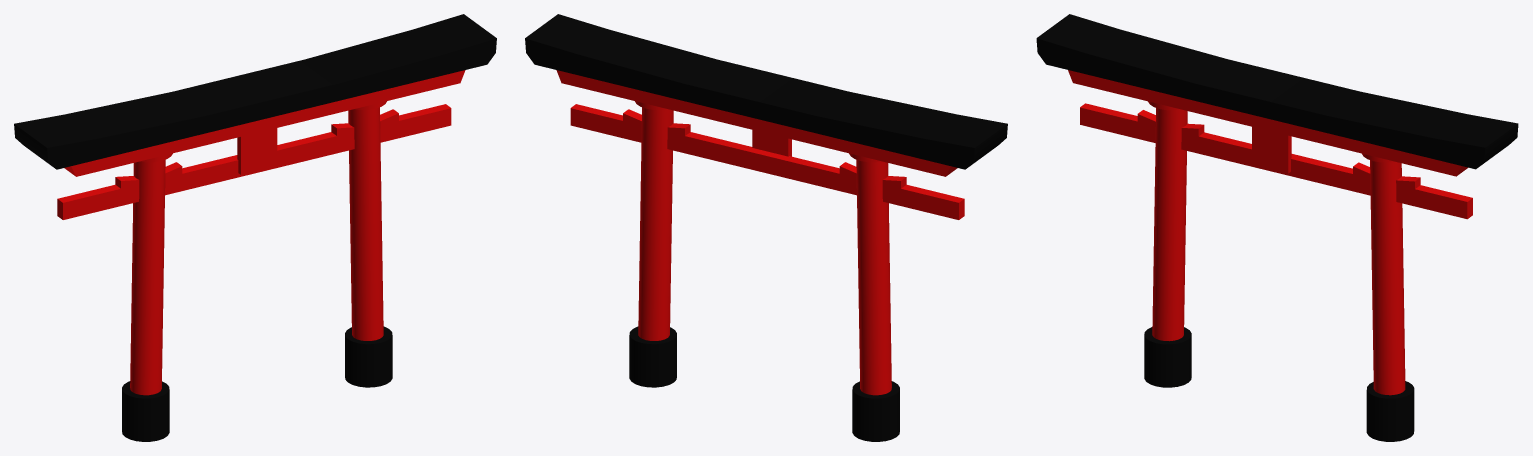
Rendered from Gate.fbx.
3 renders of one model, left to right at view 1: azimuth 30°, elevation 25°; view 2: azimuth 150°, elevation 25°; view 3: azimuth 330°, elevation 25°, orthographic.
Parts seen in each view (by area): view 1: R_Base4; view 2: R_Base4; view 3: R_Base4.
Part boxes in pixels (bbox=[...]): R_Base4: bbox=[14, 14, 496, 441]; R_Base4: bbox=[525, 14, 1007, 441]; R_Base4: bbox=[1036, 14, 1518, 441].
Bounding box in the file's own units: 32.56 × 22.42 × 4.16.
